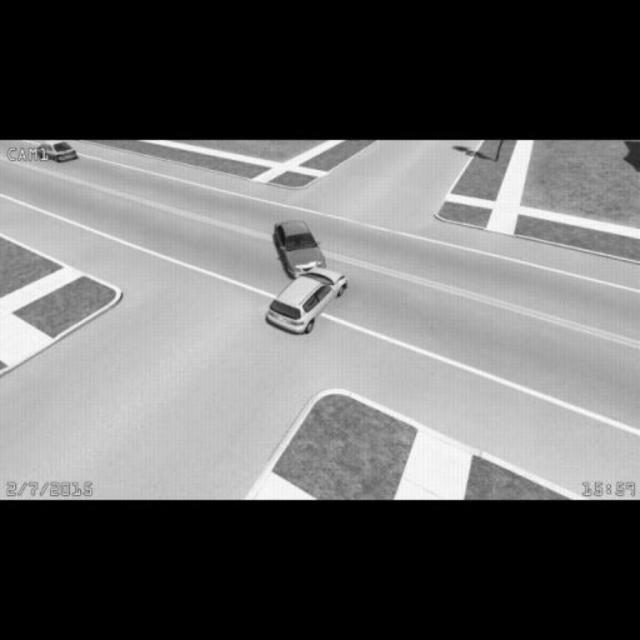accident: (266, 215, 349, 328)
vehicle: (27, 141, 81, 168)
